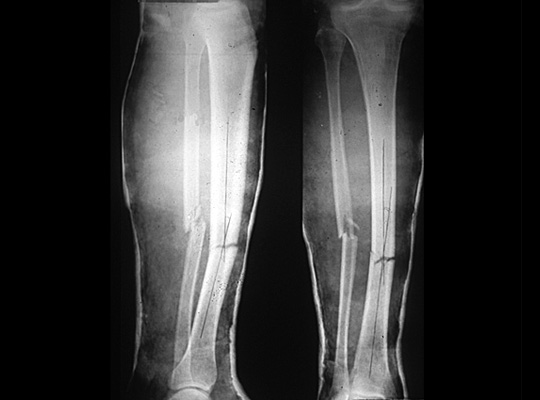fracture: (339, 221, 360, 244), (209, 242, 242, 256), (369, 248, 396, 265), (185, 220, 209, 232)
